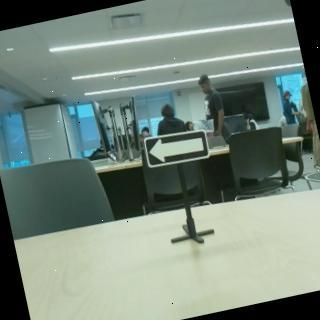sign_oneway_left: (142, 124, 213, 172)
